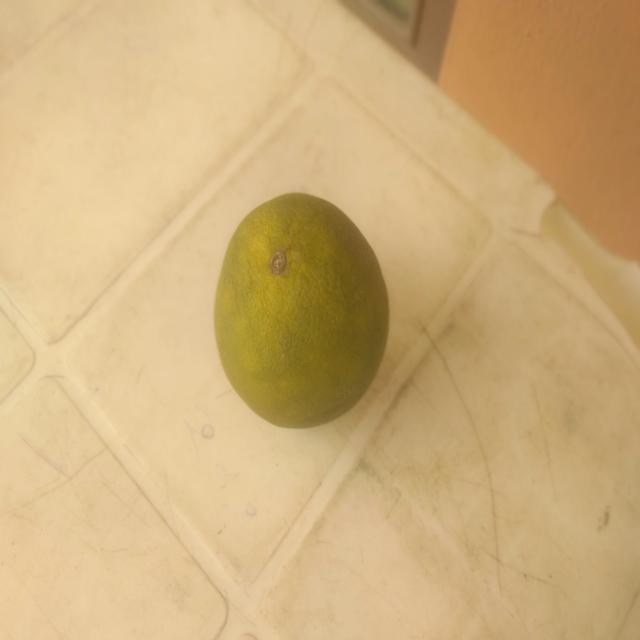Unripe: (192, 141, 410, 458)
